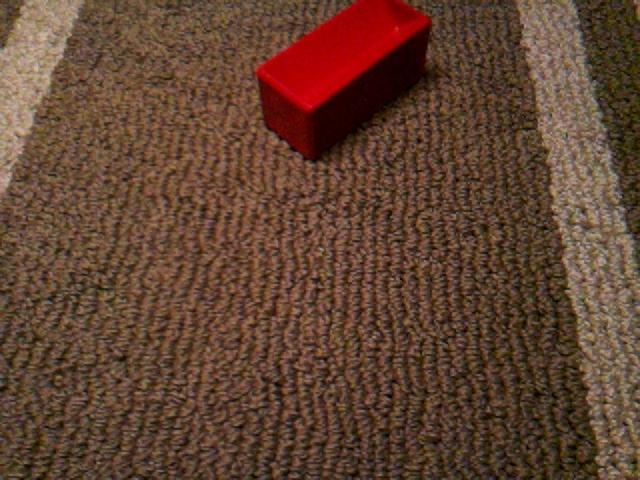red: (255, 1, 433, 162)
